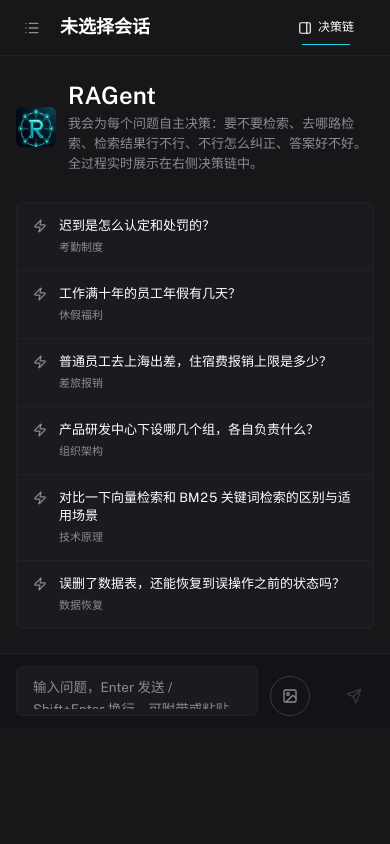
ChatView › 手机端会话抽屉按钮可打开抽屉
Step 1. Click the button named "会话" → (32, 28), box [16,12,48,44]
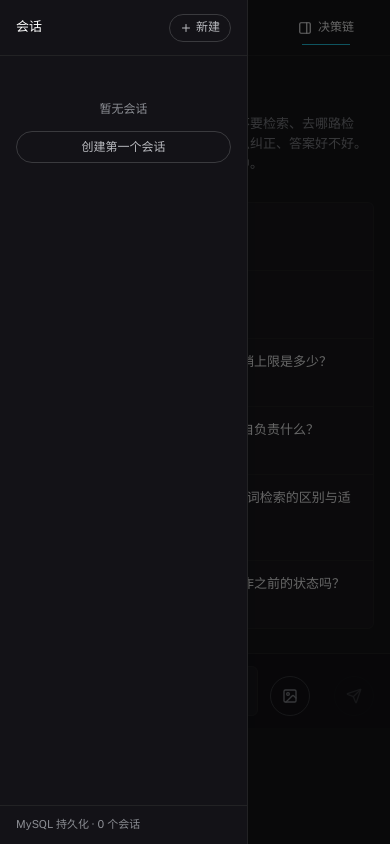
Result: the element with class "z-50" is shown
